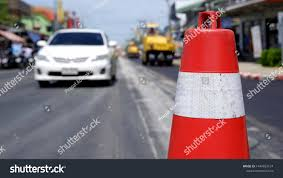car: (35, 29, 115, 87)
cone: (167, 12, 250, 159)
